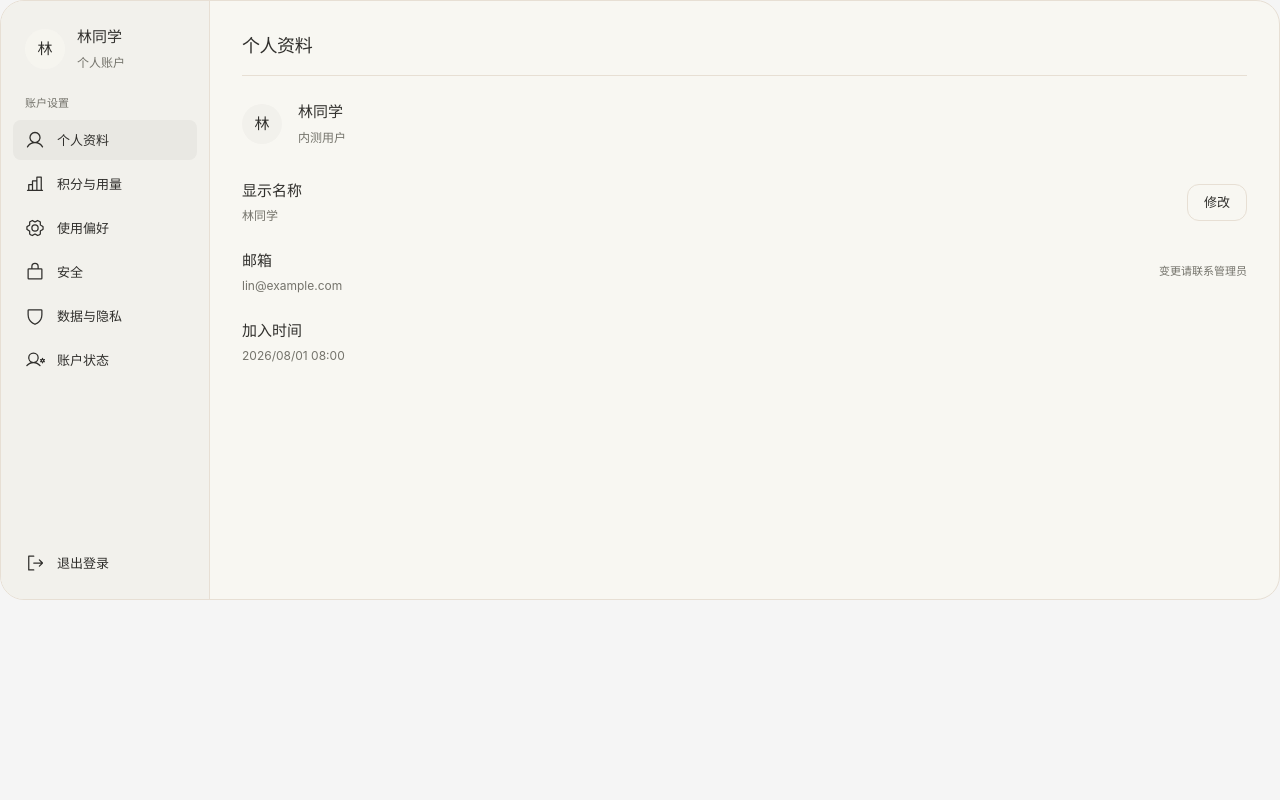
it: AccountSettingsPage › pages the credit consumption ledger without appending one long list
expect the heading "账户设置" is shown: met, box [25, 96, 69, 110]
Click the button "积分与用量".
click(105, 184)  # box [13, 164, 197, 204]
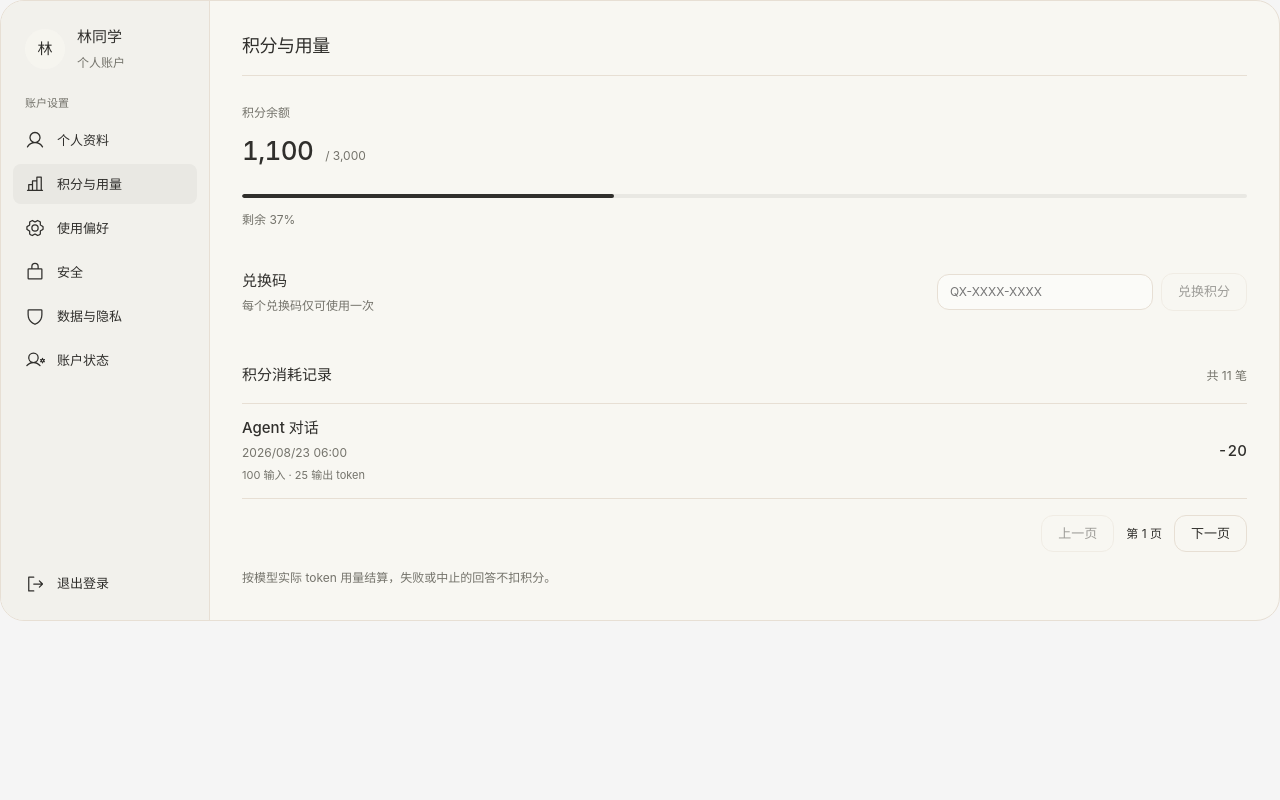
expect the text "-20" is shown: met, box [1218, 439, 1247, 463]
Click the button with aria-label "下一页积分消耗记录".
click(1210, 534)  # box [1174, 515, 1247, 552]
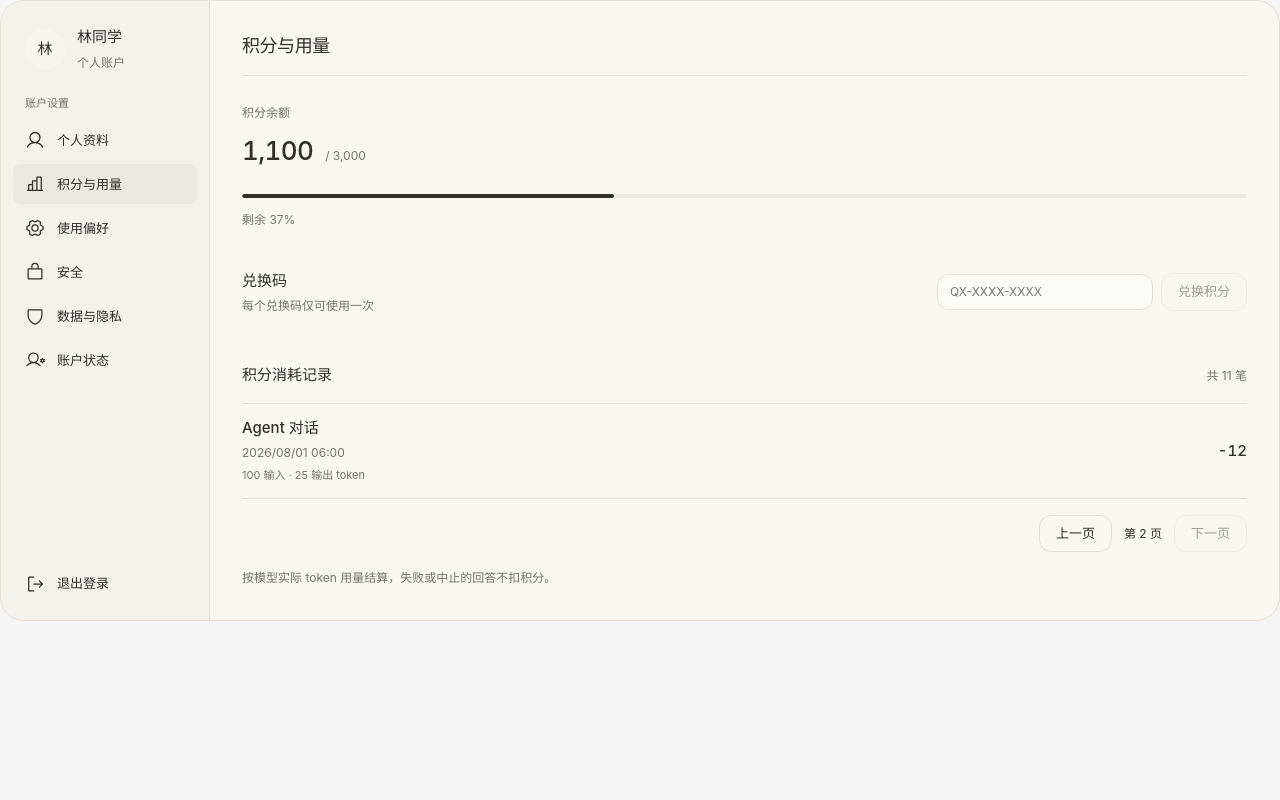
expect the text "-12" is shown: met, box [1218, 439, 1247, 463]
expect the text "-20" is gone: met
expect the text "第 2 页" is shown: met, box [1124, 524, 1162, 543]
